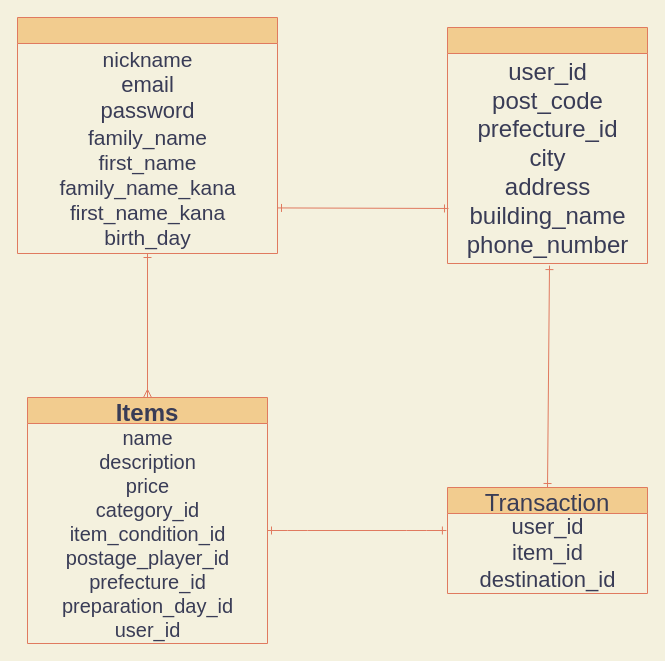
This 665x661 diagram has some shape labels left out. The shapes that lost their labels are listed below. From the top down, each one's box as (x1, y1, x2, y2) in pixels, then its label:
(16, 16, 278, 254): user
(446, 26, 648, 264): Destinations
